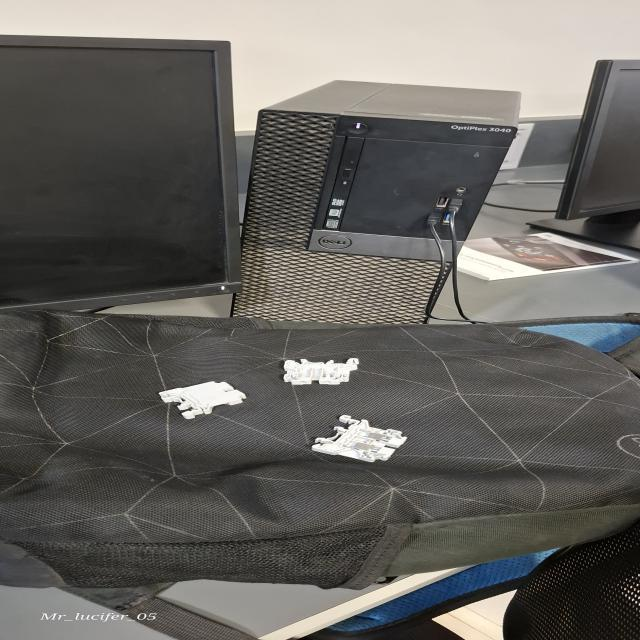Inverted: (158, 381, 248, 419)
Pass: (312, 415, 409, 463)
Reject: (280, 357, 360, 385)
